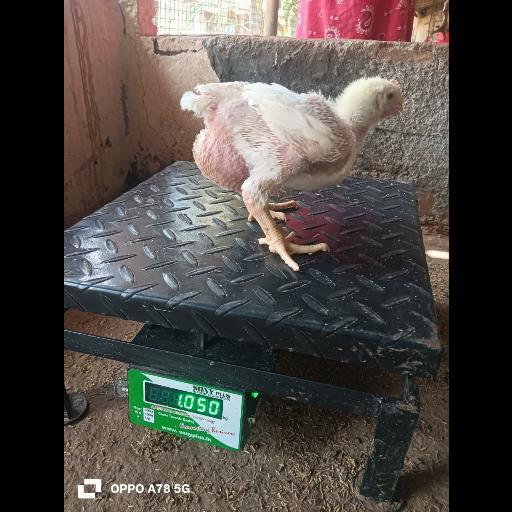chick: (173, 76, 410, 266)
